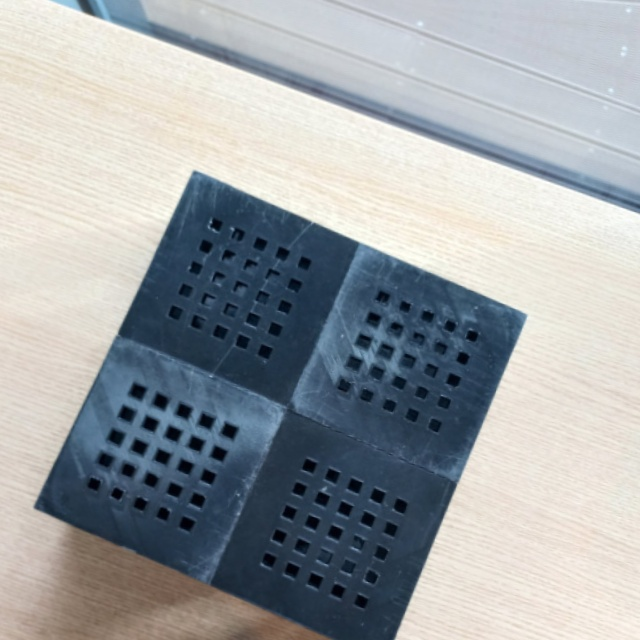pallet: (26, 167, 535, 640)
